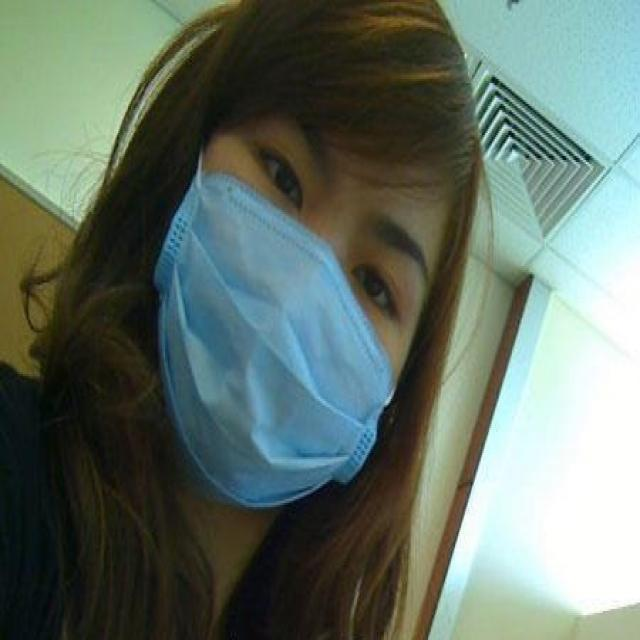mask: (158, 88, 428, 502)
